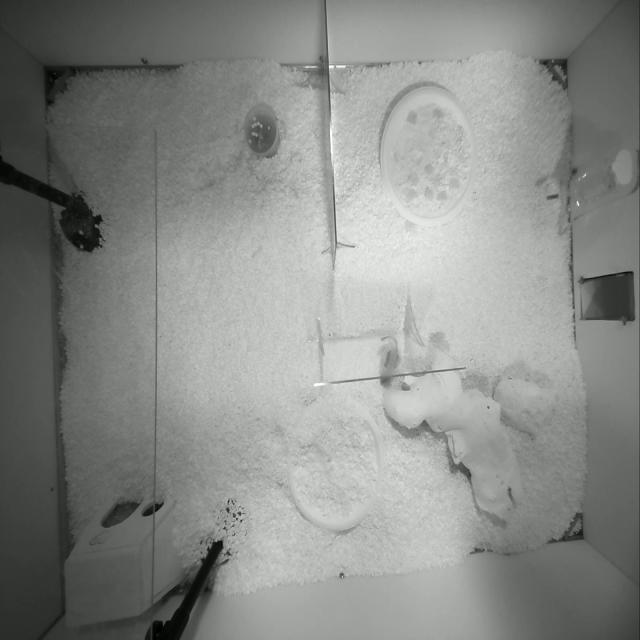pup_v_stripe: (380, 337, 400, 385)
